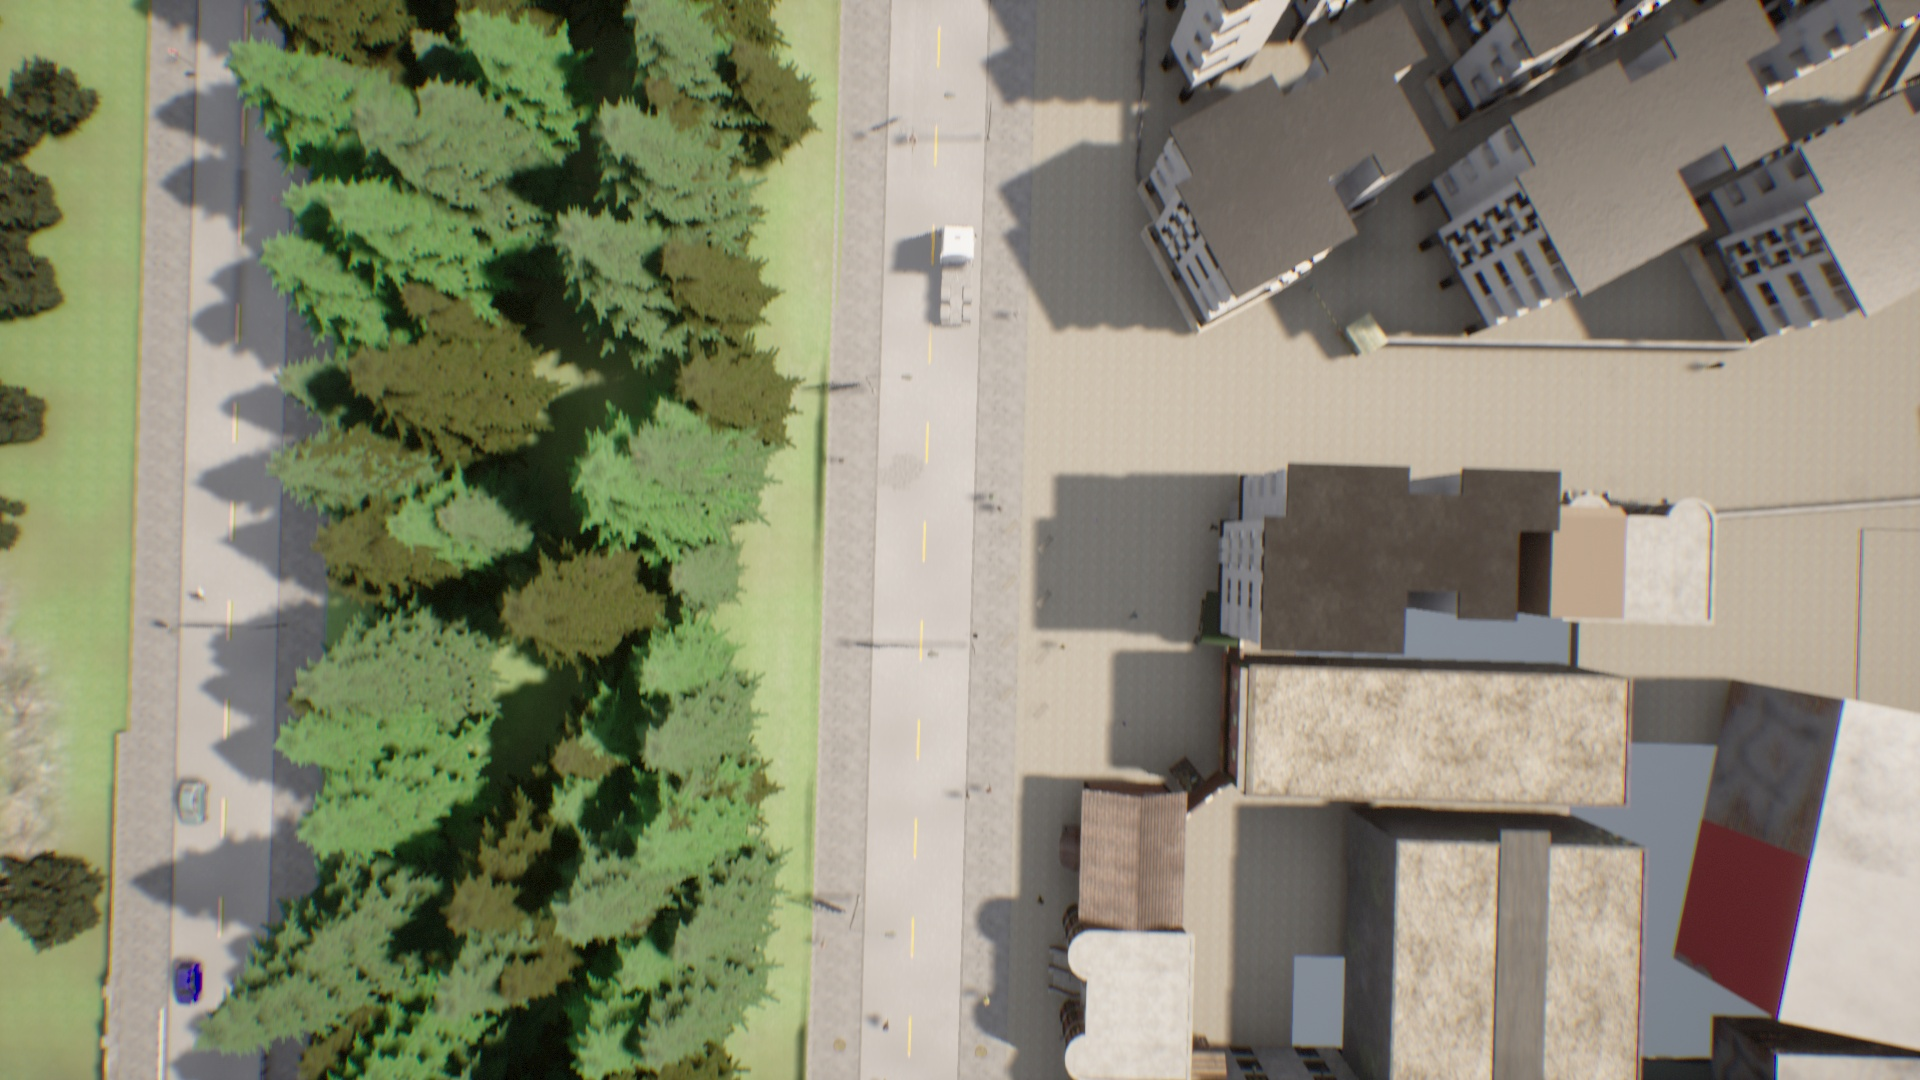Car: (171, 959, 203, 1006), (177, 782, 206, 824)
Truck: (939, 224, 978, 335)
